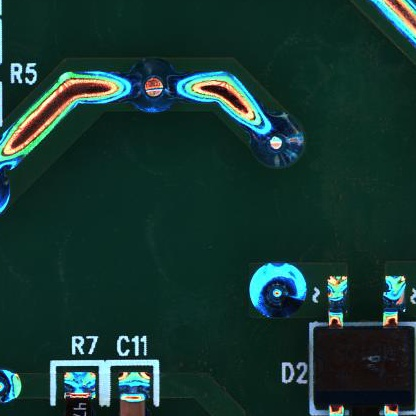spot: (248, 263, 307, 319), (250, 113, 304, 168), (127, 57, 178, 114)
